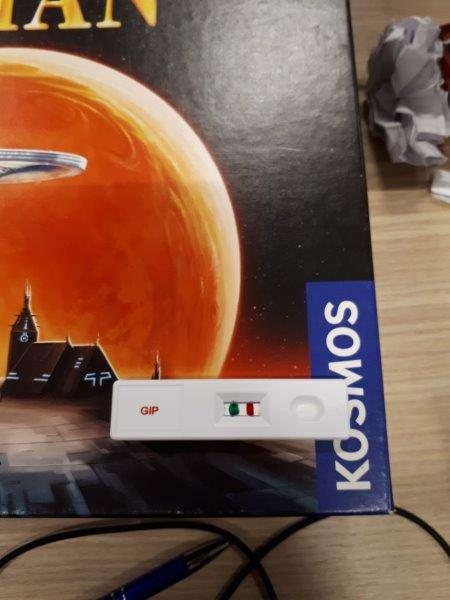Positive: (111, 380, 352, 442)
